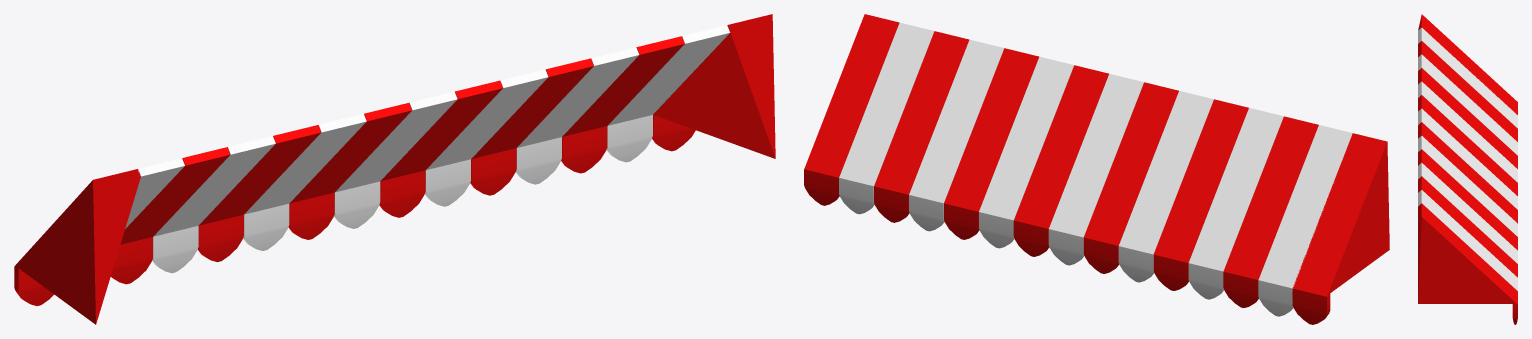
File: house_template_9.fbx
3 views of the same model, side by side, from view 1: azimuth 30°, elevation 25°; view 2: azimuth 150°, elevation 25°; view 3: azimuth 270°, elevation 25° (orthographic). The views are drawn at different scales.
Visible parts, largest first — view 1: house template_9; view 2: house template_9; view 3: house template_9.
Boxes of the visible parts, box(x1,y1,x2,y2) form: house template_9: box(14, 14, 775, 324); house template_9: box(804, 14, 1389, 324); house template_9: box(1418, 14, 1517, 324).
Size of the model in its own units: 292 by 76.98 by 60.91.
